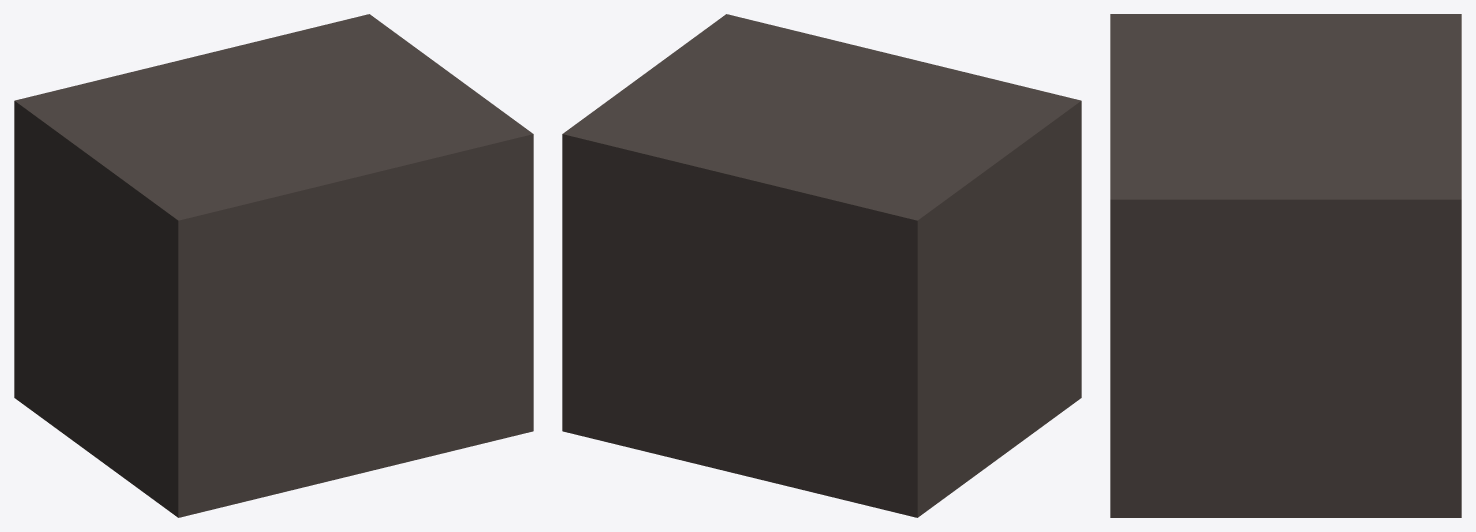
File: Key54.obj
The picture shows the model from 3 angles, left to right: view 1: azimuth 30°, elevation 25°; view 2: azimuth 150°, elevation 25°; view 3: azimuth 270°, elevation 25°; orthographic projection. The views are drawn at different scales.
Visible parts, largest first — view 1: Key54; view 2: Key54; view 3: Key54.
Boxes of the visible parts, <box> form: Key54: <box>14,14,533,517</box>; Key54: <box>562,14,1081,517</box>; Key54: <box>1110,14,1461,517</box>.
Size of the model in its own units: 5 by 4 by 4.
1 material, 1 textured.
